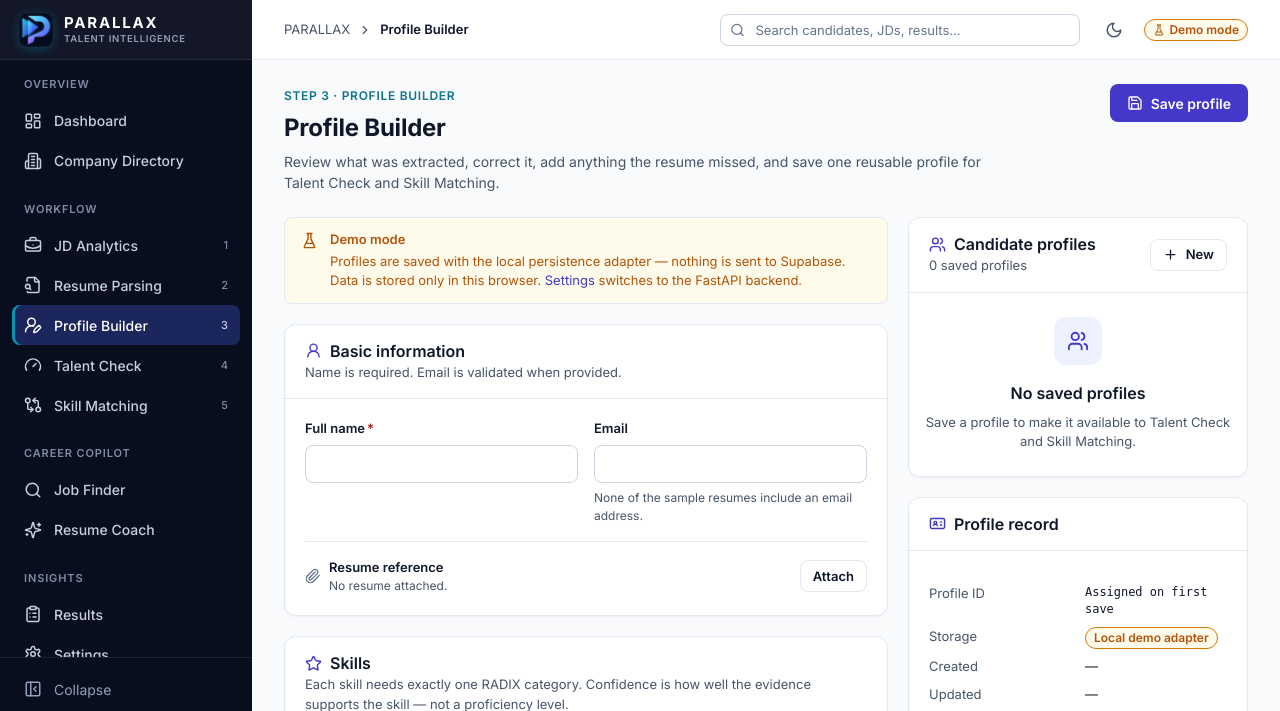
profile builder › rejects an invalid email
In the field labelled "Full name*": point(442, 464) [305, 444, 578, 482], type "Test Candidate"
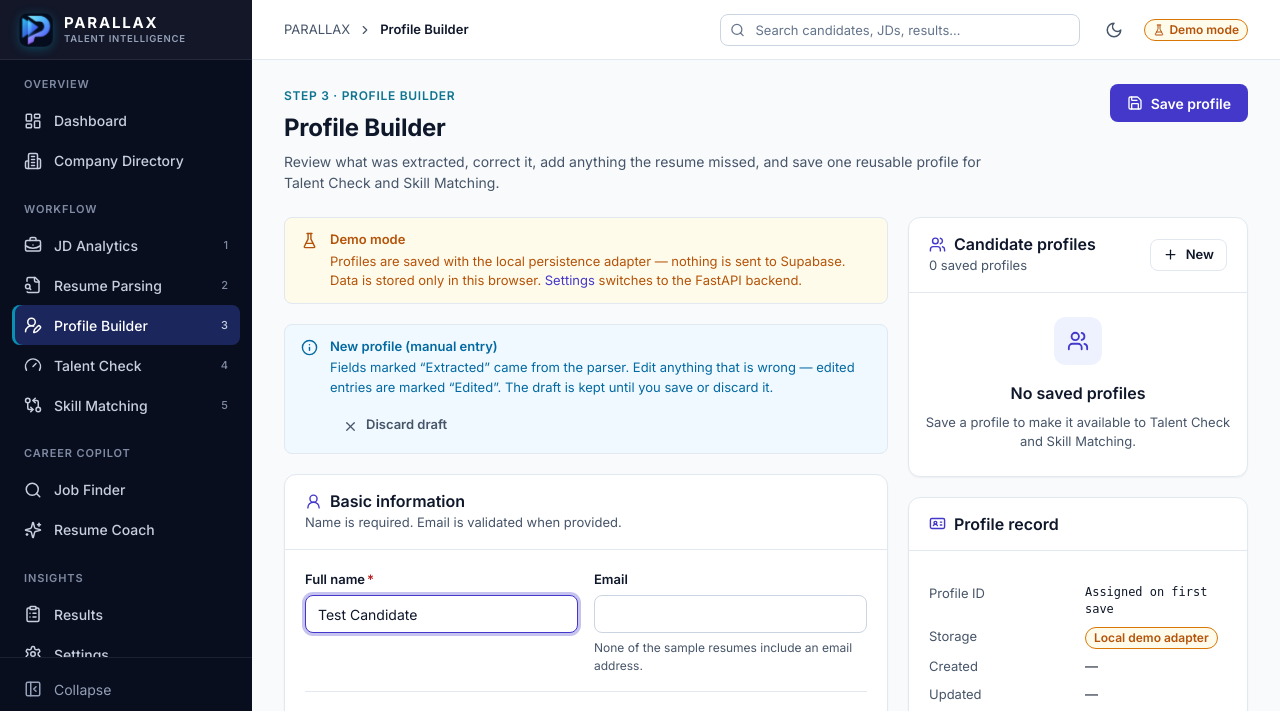
In the field labelled "Email": point(730, 614) [594, 595, 867, 633], type "not-an-email"
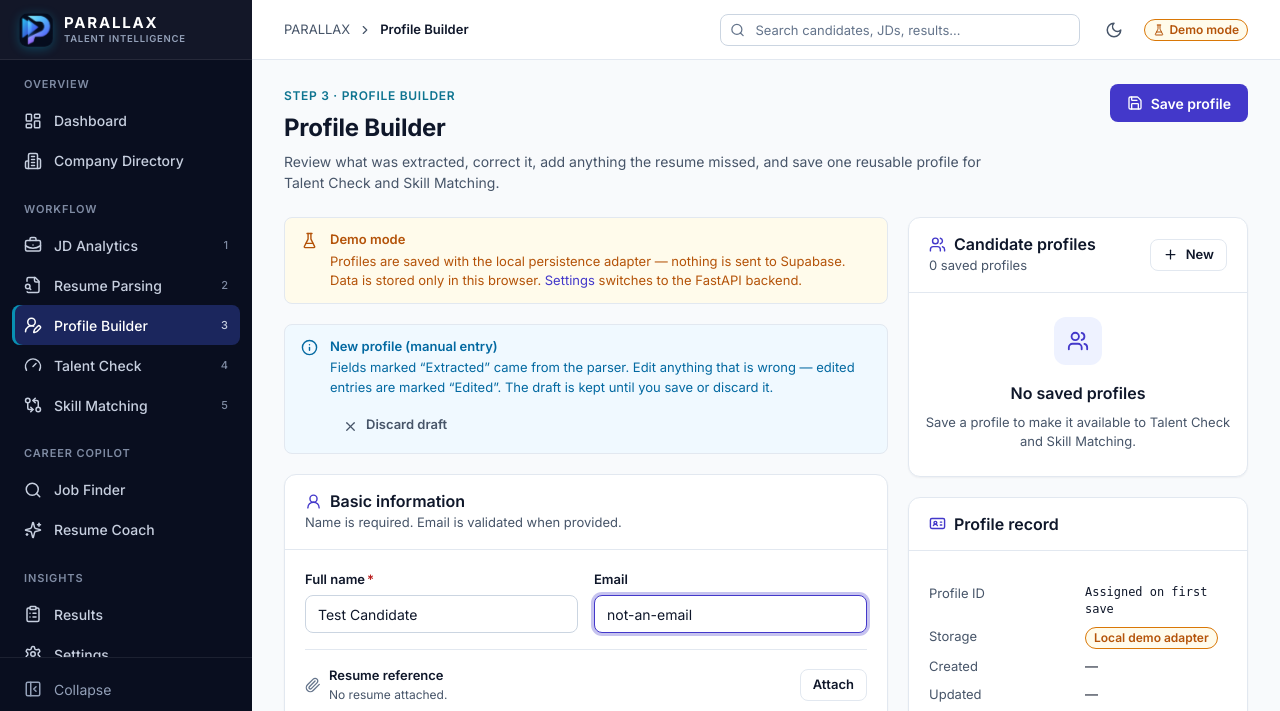
Click the button "Save profile": point(1179, 103) [1110, 84, 1248, 122]
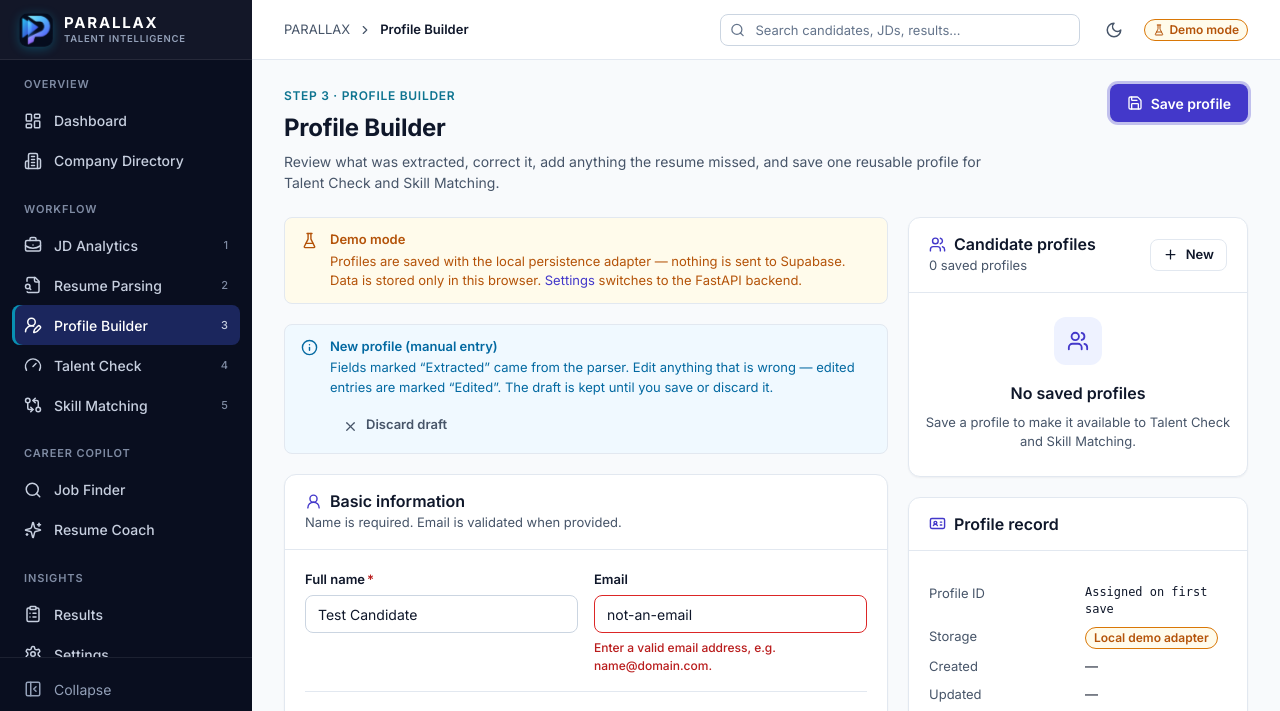
Expected: the text "Enter a valid email address, e.g. name@domain.com." is shown, [594, 640, 776, 673]
